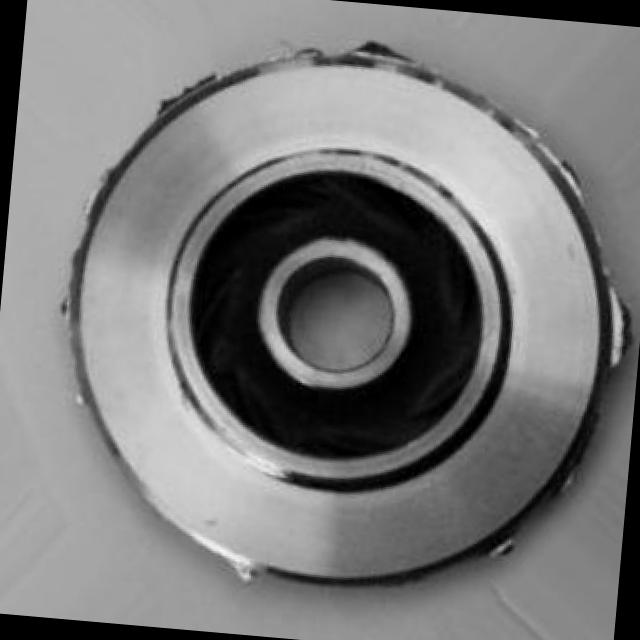Defect: (598, 287, 640, 344)
